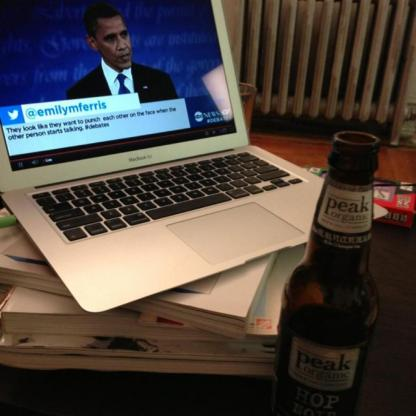board: (0, 0, 390, 314), (274, 130, 382, 416)
